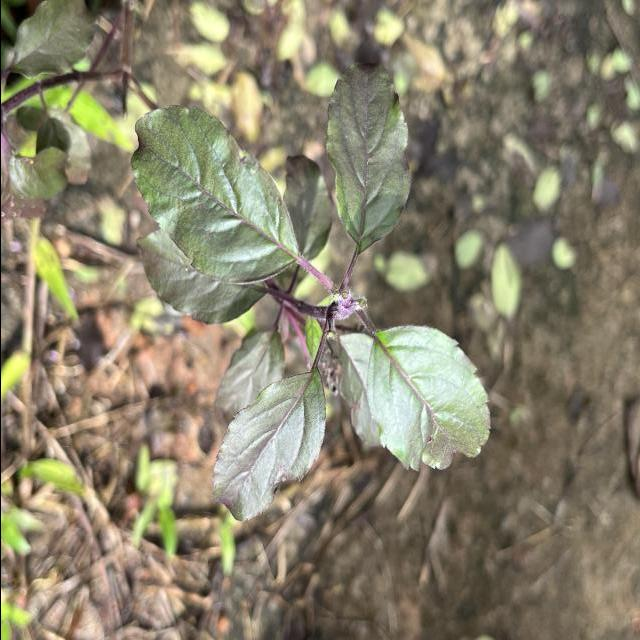Ocimum tenuiflorum: (128, 104, 300, 286), (364, 324, 492, 474), (210, 367, 326, 523), (323, 61, 412, 256)
